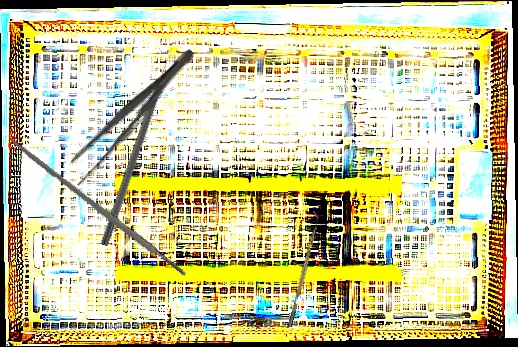Chopper: (282, 210, 323, 328)
Dressing Forceps: (60, 40, 202, 190)
Hook Surgical: (99, 45, 178, 248)
Scalpel Handle: (7, 135, 188, 280)
